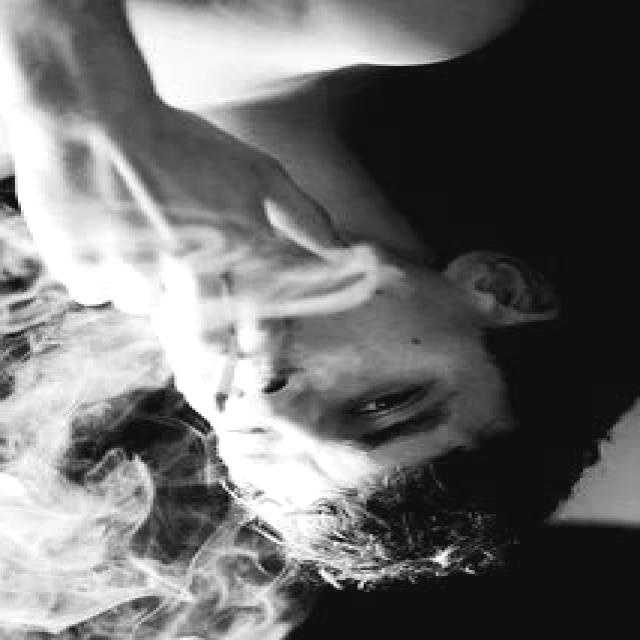cigarette: (208, 340, 240, 412)
